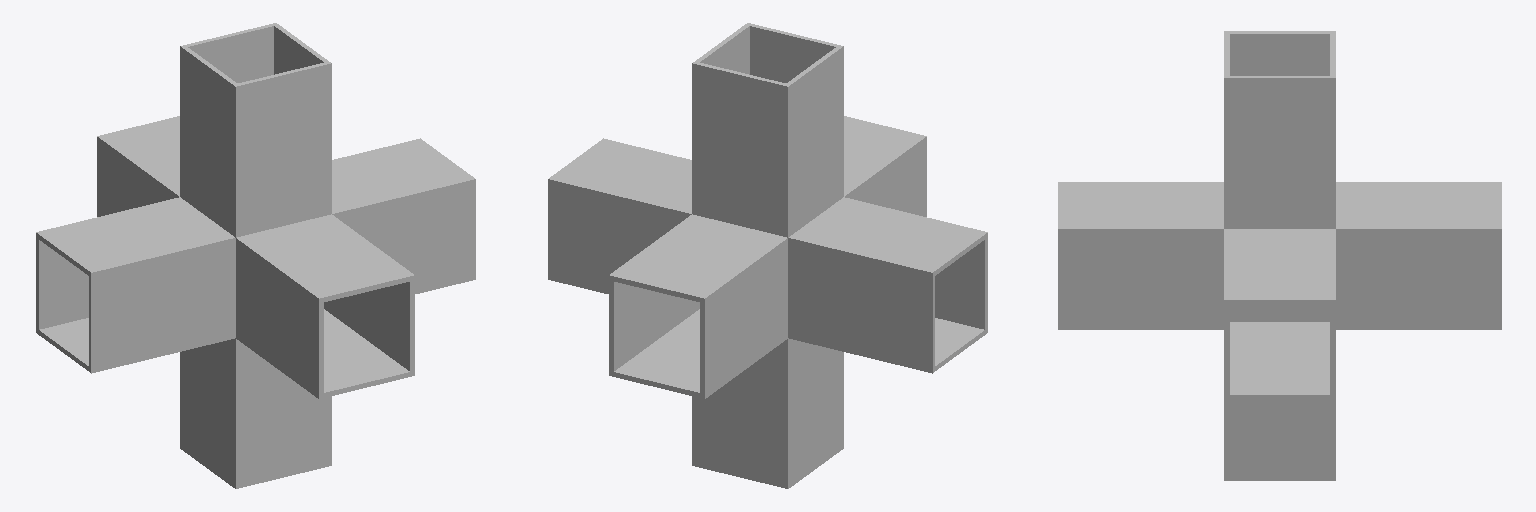
Rendered from debris.obj.
The picture shows the model from 3 angles: view 1: azimuth 30°, elevation 25°; view 2: azimuth 150°, elevation 25°; view 3: azimuth 270°, elevation 25°; orthographic projection.
Visible parts, largest first — view 1: Cube; view 2: Cube; view 3: Cube.
Part boxes in pixels (x1,y1,x2,y2): Cube: (36,23,475,488); Cube: (548,23,987,488); Cube: (1058,31,1501,480).
Size of the model in its own units: 8 by 8 by 8.